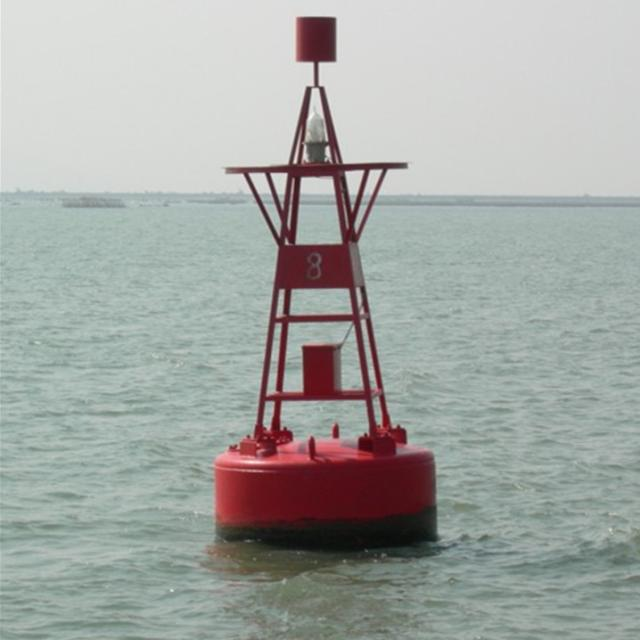buoy: (194, 3, 444, 550)
